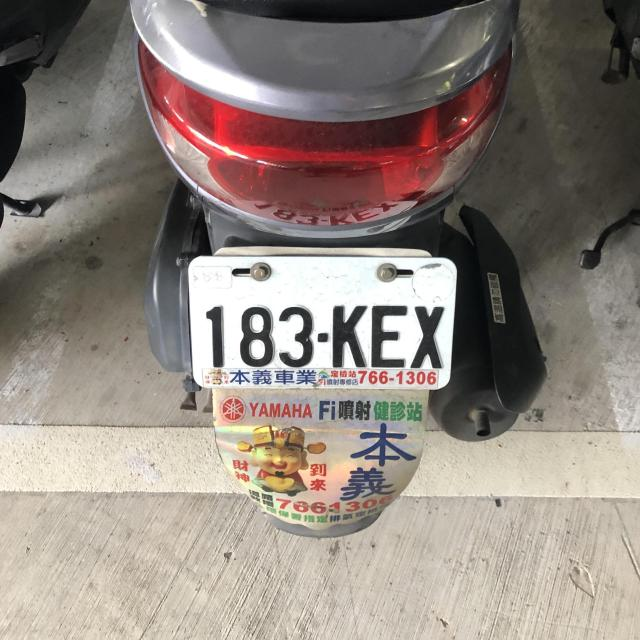W: (181, 245, 461, 399)
